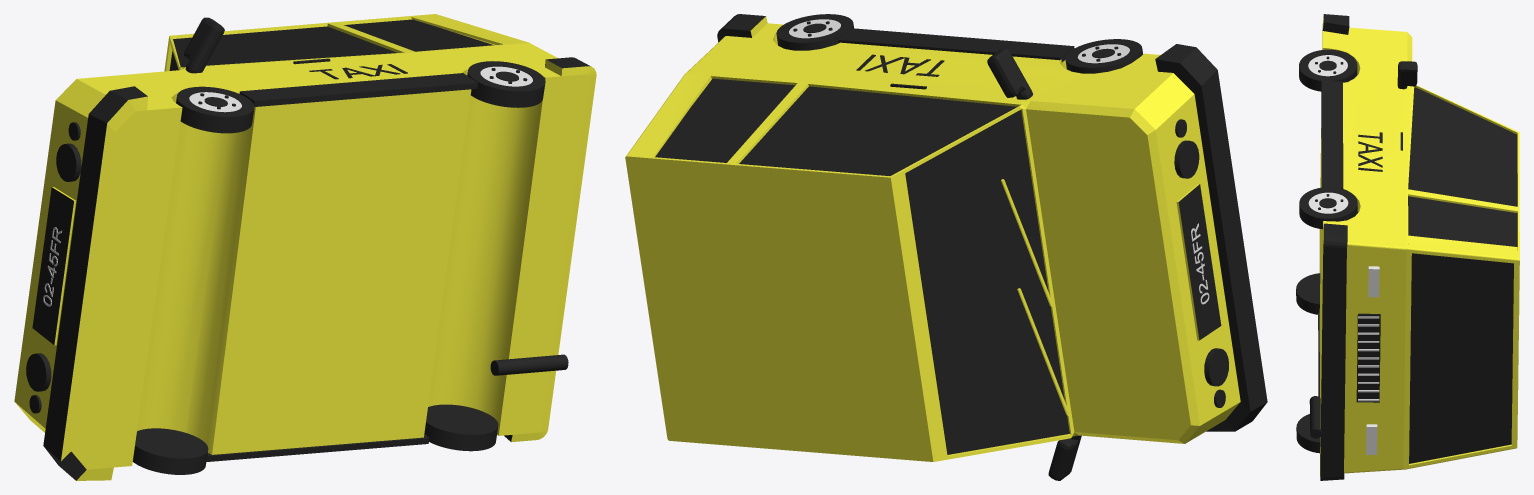
File: Taxi.fbx
3 views of the same model, side by side, from view 1: azimuth 30°, elevation 25°; view 2: azimuth 150°, elevation 25°; view 3: azimuth 270°, elevation 25° (orthographic). The views are drawn at different scales.
Visible parts, largest first — view 1: imagetostl_mesh54, imagetostl_mesh2, imagetostl_mesh65, imagetostl_mesh7, imagetostl_mesh52, imagetostl_mesh21, imagetostl_mesh50, imagetostl_mesh20, imagetostl_mesh35, imagetostl_mesh67, imagetostl_mesh25, imagetostl_mesh60 (+4 smaller); view 2: imagetostl_mesh54, imagetostl_mesh65, imagetostl_mesh2, imagetostl_mesh7, imagetostl_mesh52, imagetostl_mesh35, imagetostl_mesh20, imagetostl_mesh25, imagetostl_mesh8, imagetostl_mesh4, imagetostl_mesh3, imagetostl_mesh53; view 3: imagetostl_mesh54, imagetostl_mesh47, imagetostl_mesh65, imagetostl_mesh53, imagetostl_mesh7, imagetostl_mesh22, imagetostl_mesh35, imagetostl_mesh20, imagetostl_mesh21, imagetostl_mesh50, imagetostl_mesh41, imagetostl_mesh51 (+6 smaller).
Boxes of the visible parts, <box> form: imagetostl_mesh54: <box>14,14,596,480</box>; imagetostl_mesh2: <box>43,86,147,480</box>; imagetostl_mesh65: <box>169,19,493,70</box>; imagetostl_mesh7: <box>239,73,477,106</box>; imagetostl_mesh52: <box>32,187,73,344</box>; imagetostl_mesh21: <box>132,428,208,474</box>; imagetostl_mesh50: <box>424,404,498,451</box>; imagetostl_mesh20: <box>176,86,254,133</box>; imagetostl_mesh35: <box>467,61,545,107</box>; imagetostl_mesh67: <box>206,434,429,461</box>; imagetostl_mesh25: <box>184,17,224,73</box>; imagetostl_mesh60: <box>490,354,568,375</box>; imagetostl_mesh54: <box>625,16,1240,461</box>; imagetostl_mesh65: <box>655,78,1069,454</box>; imagetostl_mesh2: <box>1155,44,1267,431</box>; imagetostl_mesh7: <box>838,28,1074,62</box>; imagetostl_mesh52: <box>1178,184,1221,340</box>; imagetostl_mesh35: <box>776,14,853,50</box>; imagetostl_mesh20: <box>1065,39,1142,73</box>; imagetostl_mesh25: <box>987,48,1032,99</box>; imagetostl_mesh8: <box>1048,435,1081,480</box>; imagetostl_mesh4: <box>1174,140,1199,178</box>; imagetostl_mesh3: <box>1204,348,1228,386</box>; imagetostl_mesh53: <box>717,14,765,42</box>; imagetostl_mesh54: <box>1319,17,1519,476</box>; imagetostl_mesh47: <box>1409,253,1513,463</box>; imagetostl_mesh65: <box>1408,87,1517,246</box>; imagetostl_mesh53: <box>1320,223,1347,480</box>; imagetostl_mesh7: <box>1321,81,1343,188</box>; imagetostl_mesh22: <box>1356,313,1380,402</box>; imagetostl_mesh35: <box>1299,187,1357,229</box>; imagetostl_mesh20: <box>1299,49,1357,91</box>; imagetostl_mesh21: <box>1296,273,1320,314</box>; imagetostl_mesh50: <box>1296,414,1320,453</box>; imagetostl_mesh41: <box>1308,192,1348,213</box>; imagetostl_mesh51: <box>1308,55,1347,76</box>.
Bounding box in the file's own units: 193054 × 151309 × 95073.
